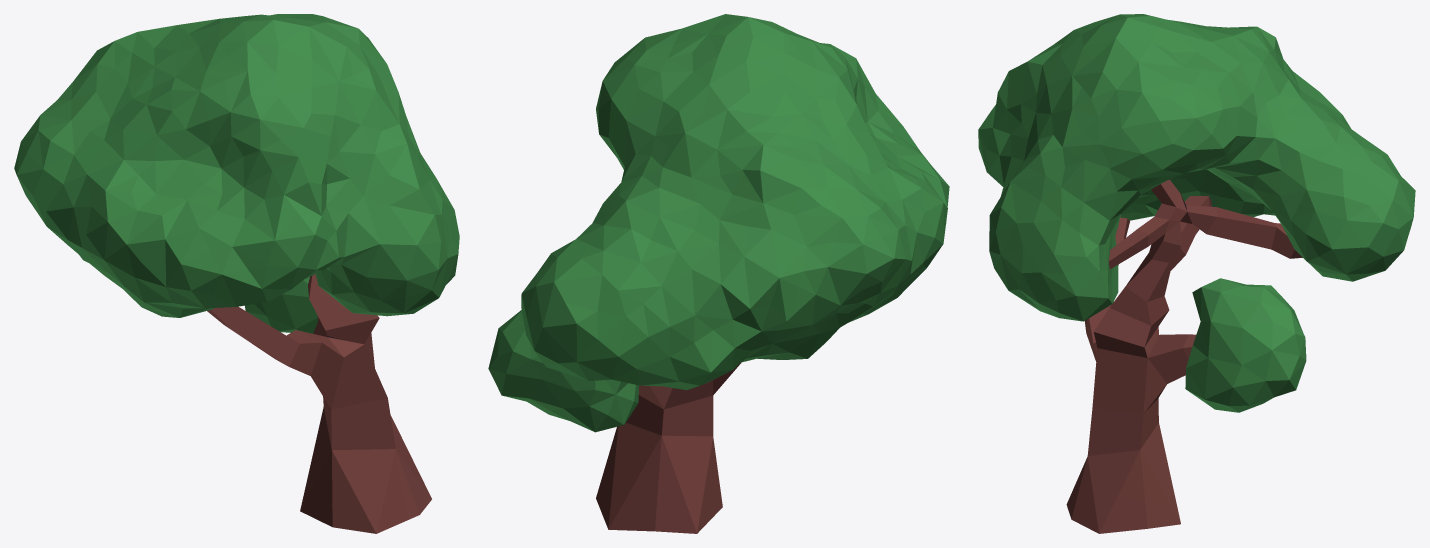
The model's file is TreePackage.fbx_Tree_003.fbx.
3 views of the same model, side by side, from view 1: azimuth 30°, elevation 25°; view 2: azimuth 150°, elevation 25°; view 3: azimuth 270°, elevation 25° (orthographic). The views are drawn at different scales.
Parts seen in each view (by area): view 1: Icosphere, Plane; view 2: Icosphere, Plane; view 3: Icosphere, Plane.
Boxes of the visible parts, <box> form: Icosphere: <box>14,14,459,333</box>; Plane: <box>207,274,431,533</box>; Icosphere: <box>488,14,949,432</box>; Plane: <box>596,362,741,533</box>; Icosphere: <box>978,14,1415,412</box>; Plane: <box>1066,179,1302,533</box>.
Bounding box in the file's own units: 436 × 574 × 495.
